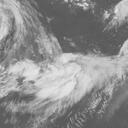cyclone: (25, 53, 105, 110)
